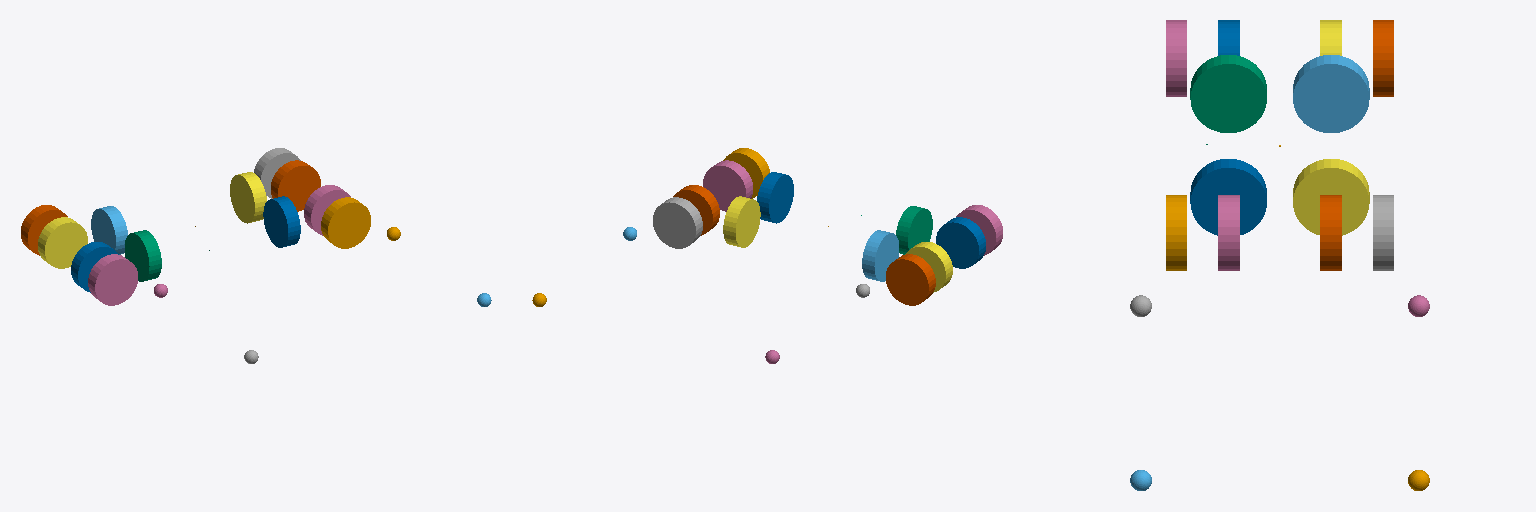
--- Facts derived from the render (not from the file) ---
3 views of the same robot in one strip: view 1: azimuth 30°, elevation 25°; view 2: azimuth 150°, elevation 25°; view 3: azimuth 270°, elevation 25° (orthographic).
Model go1 with 31 links and 30 joints (12 revolute, 18 fixed), rooted at base, posed joints at zero except 4 at the middle of their limits (fr_knee_joint = -1.85, fl_knee_joint = -1.85, br_knee_joint = -1.85, bl_knee_joint = -1.85).
Links seen in each view (by area): view 1: fr_calf_rotor, br_calf_rotor, bl_thigh_rotor, fl_thigh_rotor, fr_hip_rotor, fl_hip_rotor, br_hip_rotor, bl_hip_rotor, br_thigh_rotor, fr_thigh_rotor, bl_calf_rotor, fl_calf_rotor; view 2: fl_calf_rotor, bl_calf_rotor, br_thigh_rotor, fr_thigh_rotor, fl_hip_rotor, fr_hip_rotor, bl_hip_rotor, br_hip_rotor, bl_thigh_rotor, fl_thigh_rotor, br_calf_rotor, fr_calf_rotor; view 3: br_hip_rotor, bl_hip_rotor, fr_hip_rotor, fl_hip_rotor, fr_thigh_rotor, fl_thigh_rotor, br_calf_rotor, bl_calf_rotor, fr_calf_rotor, fl_calf_rotor, br_thigh_rotor, bl_thigh_rotor.
Boxes of the visible links, left/top/right/bottom form: fr_calf_rotor: left=321, top=197, right=370, bottom=248; br_calf_rotor: left=88, top=254, right=137, bottom=305; bl_thigh_rotor: left=38, top=217, right=87, bottom=268; fl_thigh_rotor: left=271, top=160, right=320, bottom=211; fr_hip_rotor: left=263, top=196, right=300, bottom=247; fl_hip_rotor: left=230, top=172, right=266, bottom=223; br_hip_rotor: left=125, top=230, right=161, bottom=281; bl_hip_rotor: left=91, top=206, right=127, bottom=254; br_thigh_rotor: left=71, top=242, right=118, bottom=292; fr_thigh_rotor: left=304, top=185, right=350, bottom=235; bl_calf_rotor: left=21, top=205, right=67, bottom=255; fl_calf_rotor: left=254, top=148, right=300, bottom=198; fl_calf_rotor: left=653, top=197, right=702, bottom=248; bl_calf_rotor: left=886, top=254, right=935, bottom=305; br_thigh_rotor: left=936, top=217, right=985, bottom=268; fr_thigh_rotor: left=703, top=160, right=752, bottom=211; fl_hip_rotor: left=723, top=196, right=760, bottom=247; fr_hip_rotor: left=757, top=172, right=793, bottom=223; bl_hip_rotor: left=862, top=230, right=898, bottom=281; br_hip_rotor: left=896, top=206, right=932, bottom=254; bl_thigh_rotor: left=905, top=242, right=952, bottom=292; fl_thigh_rotor: left=673, top=185, right=719, bottom=235; br_calf_rotor: left=956, top=205, right=1002, bottom=255; fr_calf_rotor: left=723, top=148, right=769, bottom=198; br_hip_rotor: left=1190, top=55, right=1266, bottom=132; bl_hip_rotor: left=1293, top=55, right=1369, bottom=132; fr_hip_rotor: left=1190, top=159, right=1266, bottom=235; fl_hip_rotor: left=1293, top=159, right=1369, bottom=235; fr_thigh_rotor: left=1218, top=195, right=1239, bottom=270; fl_thigh_rotor: left=1320, top=195, right=1341, bottom=270; br_calf_rotor: left=1166, top=20, right=1186, bottom=96; bl_calf_rotor: left=1373, top=20, right=1393, bottom=96; fr_calf_rotor: left=1166, top=195, right=1186, bottom=270; fl_calf_rotor: left=1373, top=195, right=1393, bottom=270; br_thigh_rotor: left=1218, top=20, right=1239, bottom=55; bl_thigh_rotor: left=1320, top=20, right=1341, bottom=55.
Bounding box of the posed robot: 0.6257 × 0.2735 × 0.1986 m (x, y, z).
0 mesh visuals loaded from 5 distinct referenced files (none loaded); not drawn: 13 (reference not matched to a file when rendering).

URDF robot description (go1):
<?xml version="1.0" ?>
<!-- =================================================================================== -->
<!-- |    This document was autogenerated by xacro from robot.xacro                    | -->
<!-- |    EDITING THIS FILE BY HAND IS NOT RECOMMENDED                                 | -->
<!-- =================================================================================== -->
<robot name="go1">
  <material name="black">
    <color rgba="0.0 0.0 0.0 1.0"/>
  </material>
  <material name="blue">
    <color rgba="0.0 0.0 0.8 1.0"/>
  </material>
  <material name="green">
    <color rgba="0.0 0.8 0.0 1.0"/>
  </material>
  <material name="grey">
    <color rgba="0.2 0.2 0.2 1.0"/>
  </material>
  <material name="silver">
    <color rgba="0.9137254901960784 0.9137254901960784 0.8470588235294118 1.0"/>
  </material>
  <material name="orange">
    <color rgba="1.0 0.4235294117647059 0.0392156862745098 1.0"/>
  </material>
  <material name="brown">
    <color rgba="0.8705882352941177 0.8117647058823529 0.7647058823529411 1.0"/>
  </material>
  <material name="red">
    <color rgba="0.8 0.0 0.0 1.0"/>
  </material>
  <material name="white">
    <color rgba="1.0 1.0 1.0 1.0"/>
  </material>
  <gazebo>
    <plugin filename="libgazebo_ros2_control.so" name="gazebo_ros2_control">
      <parameters>../go1_description/config/low_level_controllers.yaml</parameters>
      <parameters>../go1_description/config/robot_params.yaml</parameters>
    </plugin>
  </gazebo>
  <gazebo reference="imu_link">
    <gravity>true</gravity>
    <sensor name="imu_sensor" type="imu">
      <always_on>true</always_on>
      <update_rate>100</update_rate>
      <visualize>true</visualize>
      <topic>imu</topic>
      <plugin filename="libgazebo_ros_imu_sensor.so" name="imu_plugin">
        <topicName>imu</topicName>
        <bodyName>imu_link</bodyName>
        <updateRateHZ>10.0</updateRateHZ>
        <gaussianNoise>0.0</gaussianNoise>
        <xyzOffset>0 0 0</xyzOffset>
        <rpyOffset>0 0 0</rpyOffset>
        <frameName>imu_link</frameName>
        <initialOrientationAsReference>false</initialOrientationAsReference>
        <ros>
          <remapping>/imu_plugin/out:=imu</remapping>
        </ros>
        <output_type>sensor_msgs/Imu</output_type>
        <frame_name>imu_link</frame_name>
      </plugin>
      <pose>0 0 0 0 0 0</pose>
    </sensor>
  </gazebo>
  <gazebo reference="base">
    <material>Gazebo/Green</material>
    <turnGravityOff>false</turnGravityOff>
  </gazebo>
  <gazebo reference="trunk">
    <mu1>0.2</mu1>
    <mu2>0.2</mu2>
    <kp value="1000000.0"/>
    <kd value="1.0"/>
  </gazebo>
  <gazebo reference="stick_link">
    <mu1>0.2</mu1>
    <mu2>0.2</mu2>
    <material>Gazebo/White</material>
  </gazebo>
  <gazebo reference="imu_link">
    <mu1>0.2</mu1>
    <mu2>0.2</mu2>
    <material>Gazebo/Red</material>
  </gazebo>
  <!-- fl leg -->
  <gazebo reference="fl_hip">
    <mu1>0.2</mu1>
    <mu2>0.2</mu2>
    <material>Gazebo/DarkGrey</material>
  </gazebo>
  <gazebo reference="fl_thigh">
    <mu1>0.2</mu1>
    <mu2>0.2</mu2>
    <self_collide>1</self_collide>
    <material>Gazebo/DarkGrey</material>
    <kp value="1000000.0"/>
    <kd value="1.0"/>
  </gazebo>
  <gazebo reference="fl_calf">
    <mu1>0.2</mu1>
    <mu2>0.2</mu2>
    <self_collide>1</self_collide>
  </gazebo>
  <gazebo reference="fl_foot">
    <mu1>0.6</mu1>
    <mu2>0.6</mu2>
    <self_collide>1</self_collide>
    <material>Gazebo/DarkGrey</material>
    <kp value="1000000.0"/>
    <kd value="1.0"/>
  </gazebo>
  <!-- fr leg -->
  <gazebo reference="fr_hip">
    <mu1>0.2</mu1>
    <mu2>0.2</mu2>
    <material>Gazebo/DarkGrey</material>
  </gazebo>
  <gazebo reference="fr_thigh">
    <mu1>0.2</mu1>
    <mu2>0.2</mu2>
    <self_collide>1</self_collide>
    <material>Gazebo/DarkGrey</material>
    <kp value="1000000.0"/>
    <kd value="1.0"/>
  </gazebo>
  <gazebo reference="fr_calf">
    <mu1>0.2</mu1>
    <mu2>0.2</mu2>
    <self_collide>1</self_collide>
  </gazebo>
  <gazebo reference="fr_foot">
    <mu1>0.6</mu1>
    <mu2>0.6</mu2>
    <self_collide>1</self_collide>
    <material>Gazebo/DarkGrey</material>
    <kp value="1000000.0"/>
    <kd value="1.0"/>
  </gazebo>
  <!-- bl leg -->
  <gazebo reference="bl_hip">
    <mu1>0.2</mu1>
    <mu2>0.2</mu2>
    <material>Gazebo/DarkGrey</material>
  </gazebo>
  <gazebo reference="bl_thigh">
    <mu1>0.2</mu1>
    <mu2>0.2</mu2>
    <self_collide>1</self_collide>
    <material>Gazebo/DarkGrey</material>
    <kp value="1000000.0"/>
    <kd value="1.0"/>
  </gazebo>
  <gazebo reference="bl_calf">
    <mu1>0.2</mu1>
    <mu2>0.2</mu2>
    <self_collide>1</self_collide>
  </gazebo>
  <gazebo reference="bl_foot">
    <mu1>0.6</mu1>
    <mu2>0.6</mu2>
    <self_collide>1</self_collide>
    <material>Gazebo/DarkGrey</material>
    <kp value="1000000.0"/>
    <kd value="1.0"/>
  </gazebo>
  <!-- br leg -->
  <gazebo reference="br_hip">
    <mu1>0.2</mu1>
    <mu2>0.2</mu2>
    <material>Gazebo/DarkGrey</material>
  </gazebo>
  <gazebo reference="br_thigh">
    <mu1>0.2</mu1>
    <mu2>0.2</mu2>
    <self_collide>1</self_collide>
    <material>Gazebo/DarkGrey</material>
    <kp value="1000000.0"/>
    <kd value="1.0"/>
  </gazebo>
  <gazebo reference="br_calf">
    <mu1>0.2</mu1>
    <mu2>0.2</mu2>
    <self_collide>1</self_collide>
  </gazebo>
  <gazebo reference="br_foot">
    <mu1>0.6</mu1>
    <mu2>0.6</mu2>
    <self_collide>1</self_collide>
    <material>Gazebo/DarkGrey</material>
    <kp value="1000000.0"/>
    <kd value="1.0"/>
  </gazebo>
  <ros2_control name="GazeboSystem" type="system">
    <hardware>
      <plugin>gazebo_ros2_control/GazeboSystem</plugin>
    </hardware>
    <!-- Front Left -->
    <joint name="fl_abd_joint">
      <command_interface name="position"/>
      <command_interface name="effort"/>
      <command_interface name="velocity"/>
      <command_interface name="kp"/>
      <command_interface name="kd"/>
      <state_interface name="position">
        <!-- <param name="initial_value">0.0000</param> -->
      </state_interface>
      <state_interface name="effort"/>
      <state_interface name="velocity"/>
      <param name="min">-1.5708</param>
      <param name="max">1.5708</param>
      <param name="type">revolute</param>
      <param name="max_effort">100</param>
      <param name="kp_scale">1</param>
      <param name="kd_scale">1</param>
    </joint>
    <joint name="fl_hip_joint">
      <command_interface name="position"/>
      <command_interface name="effort"/>
      <command_interface name="velocity"/>
      <command_interface name="kp"/>
      <command_interface name="kd"/>
      <state_interface name="position">
        <!-- <param name="initial_value">1.5600</param> -->
      </state_interface>
      <state_interface name="effort"/>
      <state_interface name="velocity"/>
      <param name="min">-1.5708</param>
      <param name="max">3.14159</param>
      <param name="type">revolute</param>
      <param name="max_effort">100</param>
      <param name="kp_scale">1</param>
      <param name="kd_scale">1</param>
    </joint>
    <joint name="fl_knee_joint">
      <command_interface name="position"/>
      <command_interface name="effort"/>
      <command_interface name="velocity"/>
      <command_interface name="kp"/>
      <command_interface name="kd"/>
      <state_interface name="position">
        <!-- <param name="initial_value">-3.0000</param> -->
      </state_interface>
      <state_interface name="effort"/>
      <state_interface name="velocity"/>
      <param name="min">-3.14159</param>
      <param name="max">0.0000</param>
      <param name="type">revolute</param>
      <param name="max_effort">100</param>
      <param name="kp_scale">1</param>
      <param name="kd_scale">1</param>
    </joint>
    <!-- Front Right -->
    <joint name="fr_abd_joint">
      <command_interface name="position"/>
      <command_interface name="effort"/>
      <command_interface name="velocity"/>
      <command_interface name="kp"/>
      <command_interface name="kd"/>
      <state_interface name="position">
        <!-- <param name="initial_value">0.0000</param> -->
      </state_interface>
      <state_interface name="effort"/>
      <state_interface name="velocity"/>
      <param name="min">-1.5708</param>
      <param name="max">1.5708</param>
      <param name="type">revolute</param>
      <param name="max_effort">100</param>
      <param name="kp_scale">1</param>
      <param name="kd_scale">1</param>
    </joint>
    <joint name="fr_hip_joint">
      <command_interface name="position"/>
      <command_interface name="effort"/>
      <command_interface name="velocity"/>
      <command_interface name="kp"/>
      <command_interface name="kd"/>
      <state_interface name="position">
        <!-- <param name="initial_value">1.5600</param> -->
      </state_interface>
      <state_interface name="effort"/>
      <state_interface name="velocity"/>
      <param name="min">-1.5708</param>
      <param name="max">3.14159</param>
      <param name="type">revolute</param>
      <param name="max_effort">100</param>
      <param name="kp_scale">1</param>
      <param name="kd_scale">1</param>
    </joint>
    <joint name="fr_knee_joint">
      <command_interface name="position"/>
      <command_interface name="effort"/>
      <command_interface name="velocity"/>
      <command_interface name="kp"/>
      <command_interface name="kd"/>
      <state_interface name="position">
        <!-- <param name="initial_value">-3.0000</param> -->
      </state_interface>
      <state_interface name="effort"/>
      <state_interface name="velocity"/>
      <param name="min">-3.14159</param>
      <param name="max">0.000</param>
      <param name="type">revolute</param>
      <param name="max_effort">100</param>
      <param name="kp_scale">1</param>
      <param name="kd_scale">1</param>
    </joint>
    <!-- Back Left -->
    <joint name="bl_abd_joint">
      <command_interface name="position"/>
      <command_interface name="effort"/>
      <command_interface name="velocity"/>
      <command_interface name="kp"/>
      <command_interface name="kd"/>
      <state_interface name="position">
        <!-- <param name="initial_value">0.0000</param> -->
      </state_interface>
      <state_interface name="effort"/>
      <state_interface name="velocity"/>
      <param name="min">-1.5708</param>
      <param name="max">1.5708</param>
      <param name="type">revolute</param>
      <param name="max_effort">100</param>
      <param name="kp_scale">1</param>
      <param name="kd_scale">1</param>
    </joint>
    <joint name="bl_hip_joint">
      <command_interface name="position"/>
      <command_interface name="effort"/>
      <command_interface name="velocity"/>
      <command_interface name="kp"/>
      <command_interface name="kd"/>
      <state_interface name="position">
        <!-- <param name="initial_value">1.5600</param> -->
      </state_interface>
      <state_interface name="effort"/>
      <state_interface name="velocity"/>
      <param name="min">-1.5708</param>
      <param name="max">3.14159</param>
      <param name="type">revolute</param>
      <param name="max_effort">100</param>
      <param name="kp_scale">1</param>
      <param name="kd_scale">1</param>
    </joint>
    <joint name="bl_knee_joint">
      <command_interface name="position"/>
      <command_interface name="effort"/>
      <command_interface name="velocity"/>
      <command_interface name="kp"/>
      <command_interface name="kd"/>
      <state_interface name="position">
        <!-- <param name="initial_value">-3.0000</param> -->
      </state_interface>
      <state_interface name="effort"/>
      <state_interface name="velocity"/>
      <param name="min">-3.14159</param>
      <param name="max">0.000</param>
      <param name="type">revolute</param>
      <param name="max_effort">100</param>
      <param name="kp_scale">1</param>
      <param name="kd_scale">1</param>
    </joint>
    <!-- Back Right -->
    <joint name="br_abd_joint">
      <command_interface name="position"/>
      <command_interface name="effort"/>
      <command_interface name="velocity"/>
      <command_interface name="kp"/>
      <command_interface name="kd"/>
      <state_interface name="position">
        <!-- <param name="initial_value">0.0000</param> -->
      </state_interface>
      <state_interface name="effort"/>
      <state_interface name="velocity"/>
      <param name="min">-1.5708</param>
      <param name="max">1.5708</param>
      <param name="type">revolute</param>
      <param name="max_effort">100</param>
      <param name="kp_scale">1</param>
      <param name="kd_scale">1</param>
    </joint>
    <joint name="br_hip_joint">
      <command_interface name="position"/>
      <command_interface name="effort"/>
      <command_interface name="velocity"/>
      <command_interface name="kp"/>
      <command_interface name="kd"/>
      <state_interface name="position">
        <!-- <param name="initial_value">1.56</param> -->
      </state_interface>
      <state_interface name="effort"/>
      <state_interface name="velocity"/>
      <param name="min">-1.5708</param>
      <param name="max">3.14159</param>
      <param name="type">revolute</param>
      <param name="max_effort">100</param>
      <param name="kp_scale">1</param>
      <param name="kd_scale">1</param>
    </joint>
    <joint name="br_knee_joint">
      <command_interface name="position"/>
      <command_interface name="effort"/>
      <command_interface name="velocity"/>
      <command_interface name="kp"/>
      <command_interface name="kd"/>
      <state_interface name="position">
        <!-- <param name="initial_value">-3.0000</param> -->
      </state_interface>
      <state_interface name="effort"/>
      <state_interface name="velocity"/>
      <param name="min">-3.14159</param>
      <param name="max">0</param>
      <param name="type">revolute</param>
      <param name="max_effort">100</param>
      <param name="kp_scale">1</param>
      <param name="kd_scale">1</param>
    </joint>
    <sensor name="imu_sensor">
      <state_interface name="orientation.x"/>
      <state_interface name="orientation.y"/>
      <state_interface name="orientation.z"/>
      <state_interface name="orientation.w"/>
      <state_interface name="angular_velocity.x"/>
      <state_interface name="angular_velocity.y"/>
      <state_interface name="angular_velocity.z"/>
      <state_interface name="linear_acceleration.x"/>
      <state_interface name="linear_acceleration.y"/>
      <state_interface name="linear_acceleration.z"/>
    </sensor>
  </ros2_control>
  <!-- <xacro:include filename="$(find go1_description)/xacro/robot_hardware.ros2_control.xacro" /> -->
  <!-- <xacro:stairs stairs="15" xpos="0" ypos="0" zpos="0" /> -->
  <!-- Rotor related joint and link is only for demonstrate location. -->
  <!-- Actually, the rotor will rotate and the joint is not fixed. Reduction ratio should be considered. -->
  <link name="base">
    <visual>
      <origin rpy="0 0 0" xyz="0 0 0"/>
      <geometry>
        <box size="0.001 0.001 0.001"/>
      </geometry>
    </visual>
  </link>
  <joint name="floating_base" type="fixed">
    <origin rpy="0 0 0" xyz="0 0 0"/>
    <parent link="base"/>
    <child link="trunk"/>
  </joint>
  <link name="trunk">
    <visual>
      <origin rpy="0 0 0" xyz="0 0 0"/>
      <geometry>
        <mesh filename="../go1_description/meshes/trunk.dae" scale="1 1 1"/>
      </geometry>
    </visual>
    <collision>
      <origin rpy="0 0 0" xyz="0 0 0"/>
      <geometry>
        <box size="0.3762 0.0935 0.114"/>
      </geometry>
    </collision>
    <inertial>
      <origin rpy="0 0 0" xyz="0.0223 0.002 -0.0005"/>
      <mass value="5.204"/>
      <inertia ixx="0.0168128557" ixy="-0.0002296769" ixz="-0.0002945293" iyy="0.063009565" iyz="-4.18731e-05" izz="0.0716547275"/>
    </inertial>
  </link>
  <joint name="imu_joint" type="fixed">
    <parent link="trunk"/>
    <child link="imu_link"/>
    <origin rpy="0 0 0" xyz="-0.01592 -0.06659 -0.00617"/>
  </joint>
  <link name="imu_link">
    <inertial>
      <mass value="0.001"/>
      <origin rpy="0 0 0" xyz="0 0 0"/>
      <inertia ixx="0.0001" ixy="0" ixz="0" iyy="0.0001" iyz="0" izz="0.0001"/>
    </inertial>
    <visual>
      <origin rpy="0 0 0" xyz="0 0 0"/>
      <geometry>
        <box size="0.001 0.001 0.001"/>
      </geometry>
      <!-- <material name="red"/> -->
    </visual>
    <collision>
      <origin rpy="0 0 0" xyz="0 0 0"/>
      <geometry>
        <box size=".001 .001 .001"/>
      </geometry>
    </collision>
  </link>
  <joint name="fr_abd_joint" type="revolute">
    <origin rpy="0 0 0" xyz="0.1881 -0.04675 0"/>
    <parent link="trunk"/>
    <child link="fr_hip"/>
    <axis xyz="1 0 0"/>
    <dynamics damping="0.01" friction="0.0"/>
    <limit effort="23.7" lower="-0.863" upper="0.863" velocity="30.1"/>
  </joint>
  <joint name="fr_hip_rotor_joint" type="fixed">
    <origin rpy="0 0 0" xyz="0.11215 -0.04675 0"/>
    <parent link="trunk"/>
    <child link="fr_hip_rotor"/>
  </joint>
  <link name="fr_hip">
    <visual>
      <origin rpy="3.141592653589793 0 0" xyz="0 0 0"/>
      <geometry>
        <mesh filename="../go1_description/meshes/hip.dae" scale="1 1 1"/>
      </geometry>
      <!-- <material name="orange"/> -->
    </visual>
    <collision>
      <origin rpy="1.5707963267948966 0 0" xyz="0 -0.08 0"/>
      <geometry>
        <cylinder length="0.04" radius="0.046"/>
      </geometry>
    </collision>
    <inertial>
      <origin rpy="0 0 0" xyz="-0.005657 0.008752 -0.000102"/>
      <mass value="0.591"/>
      <inertia ixx="0.000334008405" ixy="1.0826066e-05" ixz="1.290732e-06" iyy="0.000619101213" iyz="-1.643194e-06" izz="0.00040057614"/>
    </inertial>
  </link>
  <link name="fr_hip_rotor">
    <visual>
      <origin rpy="0 1.5707963267948966 0" xyz="0 0 0"/>
      <geometry>
        <cylinder length="0.02" radius="0.035"/>
      </geometry>
    </visual>
    <collision>
      <origin rpy="0 1.5707963267948966 0" xyz="0 0 0"/>
      <geometry>
        <cylinder length="0.02" radius="0.035"/>
      </geometry>
    </collision>
    <inertial>
      <origin rpy="0 0 0" xyz="0.0 0.0 0.0"/>
      <mass value="0.089"/>
      <inertia ixx="0.000111842" ixy="0.0" ixz="0.0" iyy="5.9647e-05" iyz="0.0" izz="5.9647e-05"/>
    </inertial>
  </link>
  <joint name="fr_hip_joint" type="revolute">
    <origin rpy="0 0 0" xyz="0 -0.08 0"/>
    <parent link="fr_hip"/>
    <child link="fr_thigh"/>
    <axis xyz="0 1 0"/>
    <dynamics damping="0.01" friction="0.0"/>
    <limit effort="23.7" lower="-0.686" upper="4.501" velocity="30.1"/>
  </joint>
  <joint name="fr_thigh_rotor_joint" type="fixed">
    <origin rpy="0 0 0" xyz="0.0 0.00015 0"/>
    <parent link="fr_hip"/>
    <child link="fr_thigh_rotor"/>
  </joint>
  <link name="fr_thigh">
    <visual>
      <origin rpy="0 0 0" xyz="0 0 0"/>
      <geometry>
        <mesh filename="../go1_description/meshes/thigh_mirror.dae" scale="1 1 1"/>
      </geometry>
      <!-- <material name="orange"/> -->
    </visual>
    <collision>
      <origin rpy="0 1.5707963267948966 0" xyz="0 0 -0.1065"/>
      <geometry>
        <box size="0.213 0.0245 0.034"/>
      </geometry>
    </collision>
    <inertial>
      <origin rpy="0 0 0" xyz="-0.003342 0.018054 -0.033451"/>
      <mass value="0.92"/>
      <inertia ixx="0.004431760472" ixy="-5.7496807e-05" ixz="-0.000218457134" iyy="0.004485671726" iyz="-0.000572001265" izz="0.000740309489"/>
    </inertial>
  </link>
  <link name="fr_thigh_rotor">
    <visual>
      <origin rpy="1.5707963267948966 0 0" xyz="0 0 0"/>
      <geometry>
        <cylinder length="0.02" radius="0.035"/>
      </geometry>
    </visual>
    <collision>
      <origin rpy="1.5707963267948966 0 0" xyz="0 0 0"/>
      <geometry>
        <cylinder length="0.02" radius="0.035"/>
      </geometry>
    </collision>
    <inertial>
      <origin rpy="0 0 0" xyz="0.0 0.0 0.0"/>
      <mass value="0.089"/>
      <inertia ixx="5.9647e-05" ixy="0.0" ixz="0.0" iyy="0.000111842" iyz="0.0" izz="5.9647e-05"/>
    </inertial>
  </link>
  <joint name="fr_knee_joint" type="revolute">
    <origin rpy="0 0 0" xyz="0 0 -0.213"/>
    <parent link="fr_thigh"/>
    <child link="fr_calf"/>
    <axis xyz="0 1 0"/>
    <dynamics damping="0.01" friction="0.0"/>
    <limit effort="35.55" lower="-2.818" upper="-0.888" velocity="20.06"/>
  </joint>
  <joint name="fr_calf_rotor_joint" type="fixed">
    <origin rpy="0 0 0" xyz="0.0 0.03235 0"/>
    <parent link="fr_thigh"/>
    <child link="fr_calf_rotor"/>
  </joint>
  <link name="fr_calf">
    <visual>
      <origin rpy="0 0 0" xyz="0 0 0"/>
      <geometry>
        <mesh filename="../go1_description/meshes/calf.dae" scale="1 1 1"/>
      </geometry>
      <!-- <material name="orange"/> -->
    </visual>
    <collision>
      <origin rpy="0 1.5707963267948966 0" xyz="0 0 -0.1065"/>
      <geometry>
        <box size="0.213 0.016 0.016"/>
      </geometry>
    </collision>
    <inertial>
      <origin rpy="0 0 0" xyz="0.006197 0.001408 -0.116695"/>
      <mass value="0.135862"/>
      <inertia ixx="0.001088793059" ixy="-2.55679e-07" ixz="7.117814e-06" iyy="0.001100428748" iyz="2.077264e-06" izz="2.4787446e-05"/>
    </inertial>
  </link>
  <link name="fr_calf_rotor">
    <visual>
      <origin rpy="1.5707963267948966 0 0" xyz="0 0 0"/>
      <geometry>
        <cylinder length="0.02" radius="0.035"/>
      </geometry>
    </visual>
    <collision>
      <origin rpy="1.5707963267948966 0 0" xyz="0 0 0"/>
      <geometry>
        <cylinder length="0.02" radius="0.035"/>
      </geometry>
    </collision>
    <inertial>
      <origin rpy="0 0 0" xyz="0.0 0.0 0.0"/>
      <mass value="0.089"/>
      <inertia ixx="5.9647e-05" ixy="0.0" ixz="0.0" iyy="0.000111842" iyz="0.0" izz="5.9647e-05"/>
    </inertial>
  </link>
  <joint name="fr_foot_fixed" type="fixed">
    <origin rpy="0 0 0" xyz="0 0 -0.213"/>
    <parent link="fr_calf"/>
    <child link="fr_foot"/>
  </joint>
  <link name="fr_foot">
    <visual>
      <origin rpy="0 0 0" xyz="0 0 0"/>
      <geometry>
        <sphere radius="0.01"/>
      </geometry>
      <!-- <material name="orange"/> -->
    </visual>
    <collision>
      <origin rpy="0 0 0" xyz="0 0 0"/>
      <geometry>
        <sphere radius="0.02"/>
      </geometry>
    </collision>
    <inertial>
      <mass value="0.06"/>
      <inertia ixx="9.600000000000001e-06" ixy="0.0" ixz="0.0" iyy="9.600000000000001e-06" iyz="0.0" izz="9.600000000000001e-06"/>
    </inertial>
  </link>
  <transmission name="fr_hip_tran">
    <type>transmission_interface/SimpleTransmission</type>
    <joint name="fr_hip_joint">
      <hardwareInterface>hardware_interface/EffortJointInterface</hardwareInterface>
    </joint>
    <actuator name="fr_hip_motor">
      <hardwareInterface>hardware_interface/EffortJointInterface</hardwareInterface>
      <mechanicalReduction>1</mechanicalReduction>
    </actuator>
  </transmission>
  <transmission name="fr_thigh_tran">
    <type>transmission_interface/SimpleTransmission</type>
    <joint name="fr_thigh_joint">
      <hardwareInterface>hardware_interface/EffortJointInterface</hardwareInterface>
    </joint>
    <actuator name="fr_thigh_motor">
      <hardwareInterface>hardware_interface/EffortJointInterface</hardwareInterface>
      <mechanicalReduction>1</mechanicalReduction>
    </actuator>
  </transmission>
  <transmission name="fr_calf_tran">
    <type>transmission_interface/SimpleTransmission</type>
    <joint name="fr_calf_joint">
      <hardwareInterface>hardware_interface/EffortJointInterface</hardwareInterface>
    </joint>
    <actuator name="fr_calf_motor">
      <hardwareInterface>hardware_interface/EffortJointInterface</hardwareInterface>
      <mechanicalReduction>1</mechanicalReduction>
    </actuator>
  </transmission>
  <joint name="fl_abd_joint" type="revolute">
    <origin rpy="0 0 0" xyz="0.1881 0.04675 0"/>
    <parent link="trunk"/>
    <child link="fl_hip"/>
    <axis xyz="1 0 0"/>
    <dynamics damping="0.01" friction="0.0"/>
    <limit effort="23.7" lower="-0.863" upper="0.863" velocity="30.1"/>
  </joint>
  <joint name="fl_hip_rotor_joint" type="fixed">
    <origin rpy="0 0 0" xyz="0.11215 0.04675 0"/>
    <parent link="trunk"/>
    <child link="fl_hip_rotor"/>
  </joint>
  <link name="fl_hip">
    <visual>
      <origin rpy="0 0 0" xyz="0 0 0"/>
      <geometry>
        <mesh filename="../go1_description/meshes/hip.dae" scale="1 1 1"/>
      </geometry>
      <!-- <material name="orange"/> -->
    </visual>
    <collision>
      <origin rpy="1.5707963267948966 0 0" xyz="0 0.08 0"/>
      <geometry>
        <cylinder length="0.04" radius="0.046"/>
      </geometry>
    </collision>
    <inertial>
      <origin rpy="0 0 0" xyz="-0.005657 -0.008752 -0.000102"/>
      <mass value="0.591"/>
      <inertia ixx="0.000334008405" ixy="-1.0826066e-05" ixz="1.290732e-06" iyy="0.000619101213" iyz="1.643194e-06" izz="0.00040057614"/>
    </inertial>
  </link>
  <link name="fl_hip_rotor">
    <visual>
      <origin rpy="0 1.5707963267948966 0" xyz="0 0 0"/>
      <geometry>
        <cylinder length="0.02" radius="0.035"/>
      </geometry>
    </visual>
    <collision>
      <origin rpy="0 1.5707963267948966 0" xyz="0 0 0"/>
      <geometry>
        <cylinder length="0.02" radius="0.035"/>
      </geometry>
    </collision>
    <inertial>
      <origin rpy="0 0 0" xyz="0.0 0.0 0.0"/>
      <mass value="0.089"/>
      <inertia ixx="0.000111842" ixy="0.0" ixz="0.0" iyy="5.9647e-05" iyz="0.0" izz="5.9647e-05"/>
    </inertial>
  </link>
  <joint name="fl_hip_joint" type="revolute">
    <origin rpy="0 0 0" xyz="0 0.08 0"/>
    <parent link="fl_hip"/>
    <child link="fl_thigh"/>
    <axis xyz="0 1 0"/>
    <dynamics damping="0.01" friction="0.0"/>
    <limit effort="23.7" lower="-0.686" upper="4.501" velocity="30.1"/>
  </joint>
  <joint name="fl_thigh_rotor_joint" type="fixed">
    <origin rpy="0 0 0" xyz="0.0 -0.00015 0"/>
    <parent link="fl_hip"/>
    <child link="fl_thigh_rotor"/>
  </joint>
  <link name="fl_thigh">
    <visual>
      <origin rpy="0 0 0" xyz="0 0 0"/>
      <geometry>
        <mesh filename="../go1_description/meshes/thigh.dae" scale="1 1 1"/>
      </geometry>
      <!-- <material name="orange"/> -->
    </visual>
    <collision>
      <origin rpy="0 1.5707963267948966 0" xyz="0 0 -0.1065"/>
      <geometry>
        <box size="0.213 0.0245 0.034"/>
      </geometry>
    </collision>
    <inertial>
      <origin rpy="0 0 0" xyz="-0.003342 -0.018054 -0.033451"/>
      <mass value="0.92"/>
      <inertia ixx="0.004431760472" ixy="5.7496807e-05" ixz="-0.000218457134" iyy="0.004485671726" iyz="0.000572001265" izz="0.000740309489"/>
    </inertial>
  </link>
  <link name="fl_thigh_rotor">
    <visual>
      <origin rpy="1.5707963267948966 0 0" xyz="0 0 0"/>
      <geometry>
        <cylinder length="0.02" radius="0.035"/>
      </geometry>
    </visual>
    <collision>
      <origin rpy="1.5707963267948966 0 0" xyz="0 0 0"/>
      <geometry>
        <cylinder length="0.02" radius="0.035"/>
      </geometry>
    </collision>
    <inertial>
      <origin rpy="0 0 0" xyz="0.0 0.0 0.0"/>
      <mass value="0.089"/>
      <inertia ixx="5.9647e-05" ixy="0.0" ixz="0.0" iyy="0.000111842" iyz="0.0" izz="5.9647e-05"/>
    </inertial>
  </link>
  <joint name="fl_knee_joint" type="revolute">
    <origin rpy="0 0 0" xyz="0 0 -0.213"/>
    <parent link="fl_thigh"/>
    <child link="fl_calf"/>
    <axis xyz="0 1 0"/>
    <dynamics damping="0.01" friction="0.0"/>
    <limit effort="35.55" lower="-2.818" upper="-0.888" velocity="20.06"/>
  </joint>
  <joint name="fl_calf_rotor_joint" type="fixed">
    <origin rpy="0 0 0" xyz="0.0 -0.03235 0"/>
    <parent link="fl_thigh"/>
    <child link="fl_calf_rotor"/>
  </joint>
  <link name="fl_calf">
    <visual>
      <origin rpy="0 0 0" xyz="0 0 0"/>
      <geometry>
        <mesh filename="../go1_description/meshes/calf.dae" scale="1 1 1"/>
      </geometry>
      <!-- <material name="orange"/> -->
    </visual>
    <collision>
      <origin rpy="0 1.5707963267948966 0" xyz="0 0 -0.1065"/>
      <geometry>
        <box size="0.213 0.016 0.016"/>
      </geometry>
    </collision>
    <inertial>
      <origin rpy="0 0 0" xyz="0.006197 0.001408 -0.116695"/>
      <mass value="0.135862"/>
      <inertia ixx="0.001088793059" ixy="-2.55679e-07" ixz="7.117814e-06" iyy="0.001100428748" iyz="2.077264e-06" izz="2.4787446e-05"/>
    </inertial>
  </link>
  <link name="fl_calf_rotor">
    <visual>
      <origin rpy="1.5707963267948966 0 0" xyz="0 0 0"/>
      <geometry>
        <cylinder length="0.02" radius="0.035"/>
      </geometry>
    </visual>
    <collision>
      <origin rpy="1.5707963267948966 0 0" xyz="0 0 0"/>
      <geometry>
        <cylinder length="0.02" radius="0.035"/>
      </geometry>
    </collision>
    <inertial>
      <origin rpy="0 0 0" xyz="0.0 0.0 0.0"/>
      <mass value="0.089"/>
      <inertia ixx="5.9647e-05" ixy="0.0" ixz="0.0" iyy="0.000111842" iyz="0.0" izz="5.9647e-05"/>
    </inertial>
  </link>
  <joint name="fl_foot_fixed" type="fixed">
    <origin rpy="0 0 0" xyz="0 0 -0.213"/>
    <parent link="fl_calf"/>
    <child link="fl_foot"/>
  </joint>
  <link name="fl_foot">
    <visual>
      <origin rpy="0 0 0" xyz="0 0 0"/>
      <geometry>
        <sphere radius="0.01"/>
      </geometry>
      <!-- <material name="orange"/> -->
    </visual>
    <collision>
      <origin rpy="0 0 0" xyz="0 0 0"/>
      <geometry>
        <sphere radius="0.02"/>
      </geometry>
    </collision>
    <inertial>
      <mass value="0.06"/>
      <inertia ixx="9.600000000000001e-06" ixy="0.0" ixz="0.0" iyy="9.600000000000001e-06" iyz="0.0" izz="9.600000000000001e-06"/>
    </inertial>
  </link>
  <transmission name="fl_hip_tran">
    <type>transmission_interface/SimpleTransmission</type>
    <joint name="fl_hip_joint">
      <hardwareInterface>hardware_interface/EffortJointInterface</hardwareInterface>
    </joint>
    <actuator name="fl_hip_motor">
      <hardwareInterface>hardware_interface/EffortJointInterface</hardwareInterface>
      <mechanicalReduction>1</mechanicalReduction>
    </actuator>
  </transmission>
  <transmission name="fl_thigh_tran">
    <type>transmission_interface/SimpleTransmission</type>
    <joint name="fl_thigh_joint">
      <hardwareInterface>hardware_interface/EffortJointInterface</hardwareInterface>
    </joint>
    <actuator name="fl_thigh_motor">
      <hardwareInterface>hardware_interface/EffortJointInterface</hardwareInterface>
      <mechanicalReduction>1</mechanicalReduction>
    </actuator>
  </transmission>
  <transmission name="fl_calf_tran">
    <type>transmission_interface/SimpleTransmission</type>
    <joint name="fl_calf_joint">
      <hardwareInterface>hardware_interface/EffortJointInterface</hardwareInterface>
    </joint>
    <actuator name="fl_calf_motor">
      <hardwareInterface>hardware_interface/EffortJointInterface</hardwareInterface>
      <mechanicalReduction>1</mechanicalReduction>
    </actuator>
  </transmission>
  <joint name="br_abd_joint" type="revolute">
    <origin rpy="0 0 0" xyz="-0.1881 -0.04675 0"/>
    <parent link="trunk"/>
    <child link="br_hip"/>
    <axis xyz="1 0 0"/>
    <dynamics damping="0.01" friction="0.0"/>
    <limit effort="23.7" lower="-0.863" upper="0.863" velocity="30.1"/>
  </joint>
  <joint name="br_hip_rotor_joint" type="fixed">
    <origin rpy="0 0 0" xyz="-0.11215 -0.04675 0"/>
    <parent link="trunk"/>
    <child link="br_hip_rotor"/>
  </joint>
  <link name="br_hip">
    <visual>
      <origin rpy="3.141592653589793 3.141592653589793 0" xyz="0 0 0"/>
      <geometry>
        <mesh filename="../go1_description/meshes/hip.dae" scale="1 1 1"/>
      </geometry>
      <!-- <material name="orange"/> -->
    </visual>
    <collision>
      <origin rpy="1.5707963267948966 0 0" xyz="0 -0.08 0"/>
      <geometry>
        <cylinder length="0.04" radius="0.046"/>
      </geometry>
    </collision>
    <inertial>
      <origin rpy="0 0 0" xyz="0.005657 0.008752 -0.000102"/>
      <mass value="0.591"/>
      <inertia ixx="0.000334008405" ixy="-1.0826066e-05" ixz="-1.290732e-06" iyy="0.000619101213" iyz="-1.643194e-06" izz="0.00040057614"/>
    </inertial>
  </link>
  <link name="br_hip_rotor">
    <visual>
      <origin rpy="0 1.5707963267948966 0" xyz="0 0 0"/>
      <geometry>
        <cylinder length="0.02" radius="0.035"/>
      </geometry>
    </visual>
    <collision>
      <origin rpy="0 1.5707963267948966 0" xyz="0 0 0"/>
      <geometry>
        <cylinder length="0.02" radius="0.035"/>
      </geometry>
    </collision>
    <inertial>
      <origin rpy="0 0 0" xyz="0.0 0.0 0.0"/>
      <mass value="0.089"/>
      <inertia ixx="0.000111842" ixy="0.0" ixz="0.0" iyy="5.9647e-05" iyz="0.0" izz="5.9647e-05"/>
    </inertial>
  </link>
  <joint name="br_hip_joint" type="revolute">
    <origin rpy="0 0 0" xyz="0 -0.08 0"/>
    <parent link="br_hip"/>
    <child link="br_thigh"/>
    <axis xyz="0 1 0"/>
    <dynamics damping="0.01" friction="0.0"/>
    <limit effort="23.7" lower="-0.686" upper="4.501" velocity="30.1"/>
  </joint>
  <joint name="br_thigh_rotor_joint" type="fixed">
    <origin rpy="0 0 0" xyz="0.0 0.00015 0"/>
    <parent link="br_hip"/>
    <child link="br_thigh_rotor"/>
  </joint>
  <link name="br_thigh">
    <visual>
      <origin rpy="0 0 0" xyz="0 0 0"/>
      <geometry>
        <mesh filename="../go1_description/meshes/thigh_mirror.dae" scale="1 1 1"/>
      </geometry>
      <!-- <material name="orange"/> -->
    </visual>
    <collision>
      <origin rpy="0 1.5707963267948966 0" xyz="0 0 -0.1065"/>
      <geometry>
        <box size="0.213 0.0245 0.034"/>
      </geometry>
    </collision>
    <inertial>
      <origin rpy="0 0 0" xyz="-0.003342 0.018054 -0.033451"/>
      <mass value="0.92"/>
      <inertia ixx="0.004431760472" ixy="-5.7496807e-05" ixz="-0.000218457134" iyy="0.004485671726" iyz="-0.000572001265" izz="0.000740309489"/>
    </inertial>
  </link>
  <link name="br_thigh_rotor">
    <visual>
      <origin rpy="1.5707963267948966 0 0" xyz="0 0 0"/>
      <geometry>
        <cylinder length="0.02" radius="0.035"/>
      </geometry>
    </visual>
    <collision>
      <origin rpy="1.5707963267948966 0 0" xyz="0 0 0"/>
      <geometry>
        <cylinder length="0.02" radius="0.035"/>
      </geometry>
    </collision>
    <inertial>
      <origin rpy="0 0 0" xyz="0.0 0.0 0.0"/>
      <mass value="0.089"/>
      <inertia ixx="5.9647e-05" ixy="0.0" ixz="0.0" iyy="0.000111842" iyz="0.0" izz="5.9647e-05"/>
    </inertial>
  </link>
  <joint name="br_knee_joint" type="revolute">
    <origin rpy="0 0 0" xyz="0 0 -0.213"/>
    <parent link="br_thigh"/>
    <child link="br_calf"/>
    <axis xyz="0 1 0"/>
    <dynamics damping="0.01" friction="0.0"/>
    <limit effort="35.55" lower="-2.818" upper="-0.888" velocity="20.06"/>
  </joint>
  <joint name="br_calf_rotor_joint" type="fixed">
    <origin rpy="0 0 0" xyz="0.0 0.03235 0"/>
    <parent link="br_thigh"/>
    <child link="br_calf_rotor"/>
  </joint>
  <link name="br_calf">
    <visual>
      <origin rpy="0 0 0" xyz="0 0 0"/>
      <geometry>
        <mesh filename="../go1_description/meshes/calf.dae" scale="1 1 1"/>
      </geometry>
      <!-- <material name="orange"/> -->
    </visual>
    <collision>
      <origin rpy="0 1.5707963267948966 0" xyz="0 0 -0.1065"/>
      <geometry>
        <box size="0.213 0.016 0.016"/>
      </geometry>
    </collision>
    <inertial>
      <origin rpy="0 0 0" xyz="0.006197 0.001408 -0.116695"/>
      <mass value="0.135862"/>
      <inertia ixx="0.001088793059" ixy="-2.55679e-07" ixz="7.117814e-06" iyy="0.001100428748" iyz="2.077264e-06" izz="2.4787446e-05"/>
    </inertial>
  </link>
  <link name="br_calf_rotor">
    <visual>
      <origin rpy="1.5707963267948966 0 0" xyz="0 0 0"/>
      <geometry>
        <cylinder length="0.02" radius="0.035"/>
      </geometry>
    </visual>
    <collision>
      <origin rpy="1.5707963267948966 0 0" xyz="0 0 0"/>
      <geometry>
        <cylinder length="0.02" radius="0.035"/>
      </geometry>
    </collision>
    <inertial>
      <origin rpy="0 0 0" xyz="0.0 0.0 0.0"/>
      <mass value="0.089"/>
      <inertia ixx="5.9647e-05" ixy="0.0" ixz="0.0" iyy="0.000111842" iyz="0.0" izz="5.9647e-05"/>
    </inertial>
  </link>
  <joint name="br_foot_fixed" type="fixed">
    <origin rpy="0 0 0" xyz="0 0 -0.213"/>
    <parent link="br_calf"/>
    <child link="br_foot"/>
  </joint>
  <link name="br_foot">
    <visual>
      <origin rpy="0 0 0" xyz="0 0 0"/>
      <geometry>
        <sphere radius="0.01"/>
      </geometry>
      <!-- <material name="orange"/> -->
    </visual>
    <collision>
      <origin rpy="0 0 0" xyz="0 0 0"/>
      <geometry>
        <sphere radius="0.02"/>
      </geometry>
    </collision>
    <inertial>
      <mass value="0.06"/>
      <inertia ixx="9.600000000000001e-06" ixy="0.0" ixz="0.0" iyy="9.600000000000001e-06" iyz="0.0" izz="9.600000000000001e-06"/>
    </inertial>
  </link>
  <transmission name="br_hip_tran">
    <type>transmission_interface/SimpleTransmission</type>
    <joint name="br_hip_joint">
      <hardwareInterface>hardware_interface/EffortJointInterface</hardwareInterface>
    </joint>
    <actuator name="br_hip_motor">
      <hardwareInterface>hardware_interface/EffortJointInterface</hardwareInterface>
      <mechanicalReduction>1</mechanicalReduction>
    </actuator>
  </transmission>
  <transmission name="br_thigh_tran">
    <type>transmission_interface/SimpleTransmission</type>
    <joint name="br_thigh_joint">
      <hardwareInterface>hardware_interface/EffortJointInterface</hardwareInterface>
    </joint>
    <actuator name="br_thigh_motor">
      <hardwareInterface>hardware_interface/EffortJointInterface</hardwareInterface>
      <mechanicalReduction>1</mechanicalReduction>
    </actuator>
  </transmission>
  <transmission name="br_calf_tran">
    <type>transmission_interface/SimpleTransmission</type>
    <joint name="br_calf_joint">
      <hardwareInterface>hardware_interface/EffortJointInterface</hardwareInterface>
    </joint>
    <actuator name="br_calf_motor">
      <hardwareInterface>hardware_interface/EffortJointInterface</hardwareInterface>
      <mechanicalReduction>1</mechanicalReduction>
    </actuator>
  </transmission>
  <joint name="bl_abd_joint" type="revolute">
    <origin rpy="0 0 0" xyz="-0.1881 0.04675 0"/>
    <parent link="trunk"/>
    <child link="bl_hip"/>
    <axis xyz="1 0 0"/>
    <dynamics damping="0.01" friction="0.0"/>
    <limit effort="23.7" lower="-0.863" upper="0.863" velocity="30.1"/>
  </joint>
  <joint name="bl_hip_rotor_joint" type="fixed">
    <origin rpy="0 0 0" xyz="-0.11215 0.04675 0"/>
    <parent link="trunk"/>
    <child link="bl_hip_rotor"/>
  </joint>
  <link name="bl_hip">
    <visual>
      <origin rpy="0 3.141592653589793 0" xyz="0 0 0"/>
      <geometry>
        <mesh filename="../go1_description/meshes/hip.dae" scale="1 1 1"/>
      </geometry>
      <!-- <material name="orange"/> -->
    </visual>
    <collision>
      <origin rpy="1.5707963267948966 0 0" xyz="0 0.08 0"/>
      <geometry>
        <cylinder length="0.04" radius="0.046"/>
      </geometry>
    </collision>
    <inertial>
      <origin rpy="0 0 0" xyz="0.005657 -0.008752 -0.000102"/>
      <mass value="0.591"/>
      <inertia ixx="0.000334008405" ixy="1.0826066e-05" ixz="-1.290732e-06" iyy="0.000619101213" iyz="1.643194e-06" izz="0.00040057614"/>
    </inertial>
  </link>
  <link name="bl_hip_rotor">
    <visual>
      <origin rpy="0 1.5707963267948966 0" xyz="0 0 0"/>
      <geometry>
        <cylinder length="0.02" radius="0.035"/>
      </geometry>
    </visual>
    <collision>
      <origin rpy="0 1.5707963267948966 0" xyz="0 0 0"/>
      <geometry>
        <cylinder length="0.02" radius="0.035"/>
      </geometry>
    </collision>
    <inertial>
      <origin rpy="0 0 0" xyz="0.0 0.0 0.0"/>
      <mass value="0.089"/>
      <inertia ixx="0.000111842" ixy="0.0" ixz="0.0" iyy="5.9647e-05" iyz="0.0" izz="5.9647e-05"/>
    </inertial>
  </link>
  <joint name="bl_hip_joint" type="revolute">
    <origin rpy="0 0 0" xyz="0 0.08 0"/>
    <parent link="bl_hip"/>
    <child link="bl_thigh"/>
    <axis xyz="0 1 0"/>
    <dynamics damping="0.01" friction="0.0"/>
    <limit effort="23.7" lower="-0.686" upper="4.501" velocity="30.1"/>
  </joint>
  <joint name="bl_thigh_rotor_joint" type="fixed">
    <origin rpy="0 0 0" xyz="0.0 -0.00015 0"/>
    <parent link="bl_hip"/>
    <child link="bl_thigh_rotor"/>
  </joint>
  <link name="bl_thigh">
    <visual>
      <origin rpy="0 0 0" xyz="0 0 0"/>
      <geometry>
        <mesh filename="../go1_description/meshes/thigh.dae" scale="1 1 1"/>
      </geometry>
      <!-- <material name="orange"/> -->
    </visual>
    <collision>
      <origin rpy="0 1.5707963267948966 0" xyz="0 0 -0.1065"/>
      <geometry>
        <box size="0.213 0.0245 0.034"/>
      </geometry>
    </collision>
    <inertial>
      <origin rpy="0 0 0" xyz="-0.003342 -0.018054 -0.033451"/>
      <mass value="0.92"/>
      <inertia ixx="0.004431760472" ixy="5.7496807e-05" ixz="-0.000218457134" iyy="0.004485671726" iyz="0.000572001265" izz="0.000740309489"/>
    </inertial>
  </link>
  <link name="bl_thigh_rotor">
    <visual>
      <origin rpy="1.5707963267948966 0 0" xyz="0 0 0"/>
      <geometry>
        <cylinder length="0.02" radius="0.035"/>
      </geometry>
    </visual>
    <collision>
      <origin rpy="1.5707963267948966 0 0" xyz="0 0 0"/>
      <geometry>
        <cylinder length="0.02" radius="0.035"/>
      </geometry>
    </collision>
    <inertial>
      <origin rpy="0 0 0" xyz="0.0 0.0 0.0"/>
      <mass value="0.089"/>
      <inertia ixx="5.9647e-05" ixy="0.0" ixz="0.0" iyy="0.000111842" iyz="0.0" izz="5.9647e-05"/>
    </inertial>
  </link>
  <joint name="bl_knee_joint" type="revolute">
    <origin rpy="0 0 0" xyz="0 0 -0.213"/>
    <parent link="bl_thigh"/>
    <child link="bl_calf"/>
    <axis xyz="0 1 0"/>
    <dynamics damping="0.01" friction="0.0"/>
    <limit effort="35.55" lower="-2.818" upper="-0.888" velocity="20.06"/>
  </joint>
  <joint name="bl_calf_rotor_joint" type="fixed">
    <origin rpy="0 0 0" xyz="0.0 -0.03235 0"/>
    <parent link="bl_thigh"/>
    <child link="bl_calf_rotor"/>
  </joint>
  <link name="bl_calf">
    <visual>
      <origin rpy="0 0 0" xyz="0 0 0"/>
      <geometry>
        <mesh filename="../go1_description/meshes/calf.dae" scale="1 1 1"/>
      </geometry>
      <!-- <material name="orange"/> -->
    </visual>
    <collision>
      <origin rpy="0 1.5707963267948966 0" xyz="0 0 -0.1065"/>
      <geometry>
        <box size="0.213 0.016 0.016"/>
      </geometry>
    </collision>
    <inertial>
      <origin rpy="0 0 0" xyz="0.006197 0.001408 -0.116695"/>
      <mass value="0.135862"/>
      <inertia ixx="0.001088793059" ixy="-2.55679e-07" ixz="7.117814e-06" iyy="0.001100428748" iyz="2.077264e-06" izz="2.4787446e-05"/>
    </inertial>
  </link>
  <link name="bl_calf_rotor">
    <visual>
      <origin rpy="1.5707963267948966 0 0" xyz="0 0 0"/>
      <geometry>
        <cylinder length="0.02" radius="0.035"/>
      </geometry>
    </visual>
    <collision>
      <origin rpy="1.5707963267948966 0 0" xyz="0 0 0"/>
      <geometry>
        <cylinder length="0.02" radius="0.035"/>
      </geometry>
    </collision>
    <inertial>
      <origin rpy="0 0 0" xyz="0.0 0.0 0.0"/>
      <mass value="0.089"/>
      <inertia ixx="5.9647e-05" ixy="0.0" ixz="0.0" iyy="0.000111842" iyz="0.0" izz="5.9647e-05"/>
    </inertial>
  </link>
  <joint name="bl_foot_fixed" type="fixed">
    <origin rpy="0 0 0" xyz="0 0 -0.213"/>
    <parent link="bl_calf"/>
    <child link="bl_foot"/>
  </joint>
  <link name="bl_foot">
    <visual>
      <origin rpy="0 0 0" xyz="0 0 0"/>
      <geometry>
        <sphere radius="0.01"/>
      </geometry>
      <!-- <material name="orange"/> -->
    </visual>
    <collision>
      <origin rpy="0 0 0" xyz="0 0 0"/>
      <geometry>
        <sphere radius="0.02"/>
      </geometry>
    </collision>
    <inertial>
      <mass value="0.06"/>
      <inertia ixx="9.600000000000001e-06" ixy="0.0" ixz="0.0" iyy="9.600000000000001e-06" iyz="0.0" izz="9.600000000000001e-06"/>
    </inertial>
  </link>
  <transmission name="bl_hip_tran">
    <type>transmission_interface/SimpleTransmission</type>
    <joint name="bl_hip_joint">
      <hardwareInterface>hardware_interface/EffortJointInterface</hardwareInterface>
    </joint>
    <actuator name="bl_hip_motor">
      <hardwareInterface>hardware_interface/EffortJointInterface</hardwareInterface>
      <mechanicalReduction>1</mechanicalReduction>
    </actuator>
  </transmission>
  <transmission name="bl_thigh_tran">
    <type>transmission_interface/SimpleTransmission</type>
    <joint name="bl_thigh_joint">
      <hardwareInterface>hardware_interface/EffortJointInterface</hardwareInterface>
    </joint>
    <actuator name="bl_thigh_motor">
      <hardwareInterface>hardware_interface/EffortJointInterface</hardwareInterface>
      <mechanicalReduction>1</mechanicalReduction>
    </actuator>
  </transmission>
  <transmission name="bl_calf_tran">
    <type>transmission_interface/SimpleTransmission</type>
    <joint name="bl_calf_joint">
      <hardwareInterface>hardware_interface/EffortJointInterface</hardwareInterface>
    </joint>
    <actuator name="bl_calf_motor">
      <hardwareInterface>hardware_interface/EffortJointInterface</hardwareInterface>
      <mechanicalReduction>1</mechanicalReduction>
    </actuator>
  </transmission>
  <!-- <xacro:depthCamera camID="1" name="face">
        <origin rpy="${PI} 0 0" xyz="0.2785 0.0125 0.0167"/>
    </xacro:depthCamera>

    <xacro:depthCamera camID="2" name="chin">
        <origin rpy="${PI} ${PI/2} 0" xyz="0.2522 0.0125 -0.0436"/>
    </xacro:depthCamera>

    <xacro:depthCamera camID="3" name="left">
        <origin rpy="${PI} 0.2618 ${PI/2}" xyz="-0.066 0.082 -0.0176"/>
    </xacro:depthCamera>

    <xacro:depthCamera camID="4" name="right">
        <origin rpy="${PI} 0.2618 ${-PI/2}" xyz="-0.041 -0.082 -0.0176"/>
    </xacro:depthCamera>

    <xacro:depthCamera camID="5" name="rearDown">
        <origin rpy="${PI} ${PI/2} 0" xyz="-0.0825 0.0125 -0.04365"/>
    </xacro:depthCamera>

    <joint name="camera_laserscan_joint_left" type="fixed">
        <origin rpy="0 0.2618 0" xyz="0 0 0"/>
        <parent link="camera_left"/>
        <child link="camera_laserscan_link_left"/>
    </joint>

    <link name="camera_laserscan_link_left">
    </link>

    <joint name="camera_laserscan_joint_right" type="fixed">
        <origin rpy="0 0.2618 0" xyz="0 0 0"/>
        <parent link="camera_right"/>
        <child link="camera_laserscan_link_right"/>
    </joint>

    <link name="camera_laserscan_link_right">
    </link>

    <xacro:ultraSound name="left">
        <origin rpy="0 0.2618 ${PI/2}" xyz="-0.0535  0.0826 0.00868"/>
    </xacro:ultraSound>

    <xacro:ultraSound name="right">
        <origin rpy="0 0.2618 ${-PI/2}" xyz="-0.0535 -0.0826 0.00868"/>
    </xacro:ultraSound>

    <xacro:ultraSound name="face">
        <origin rpy="0 0 0" xyz="0.2747 0.0 -0.0088"/>
    </xacro:ultraSound> -->
</robot>
